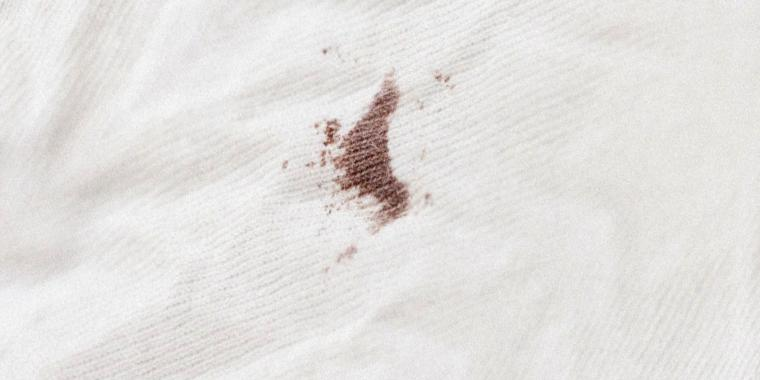stain: (318, 68, 418, 230)
